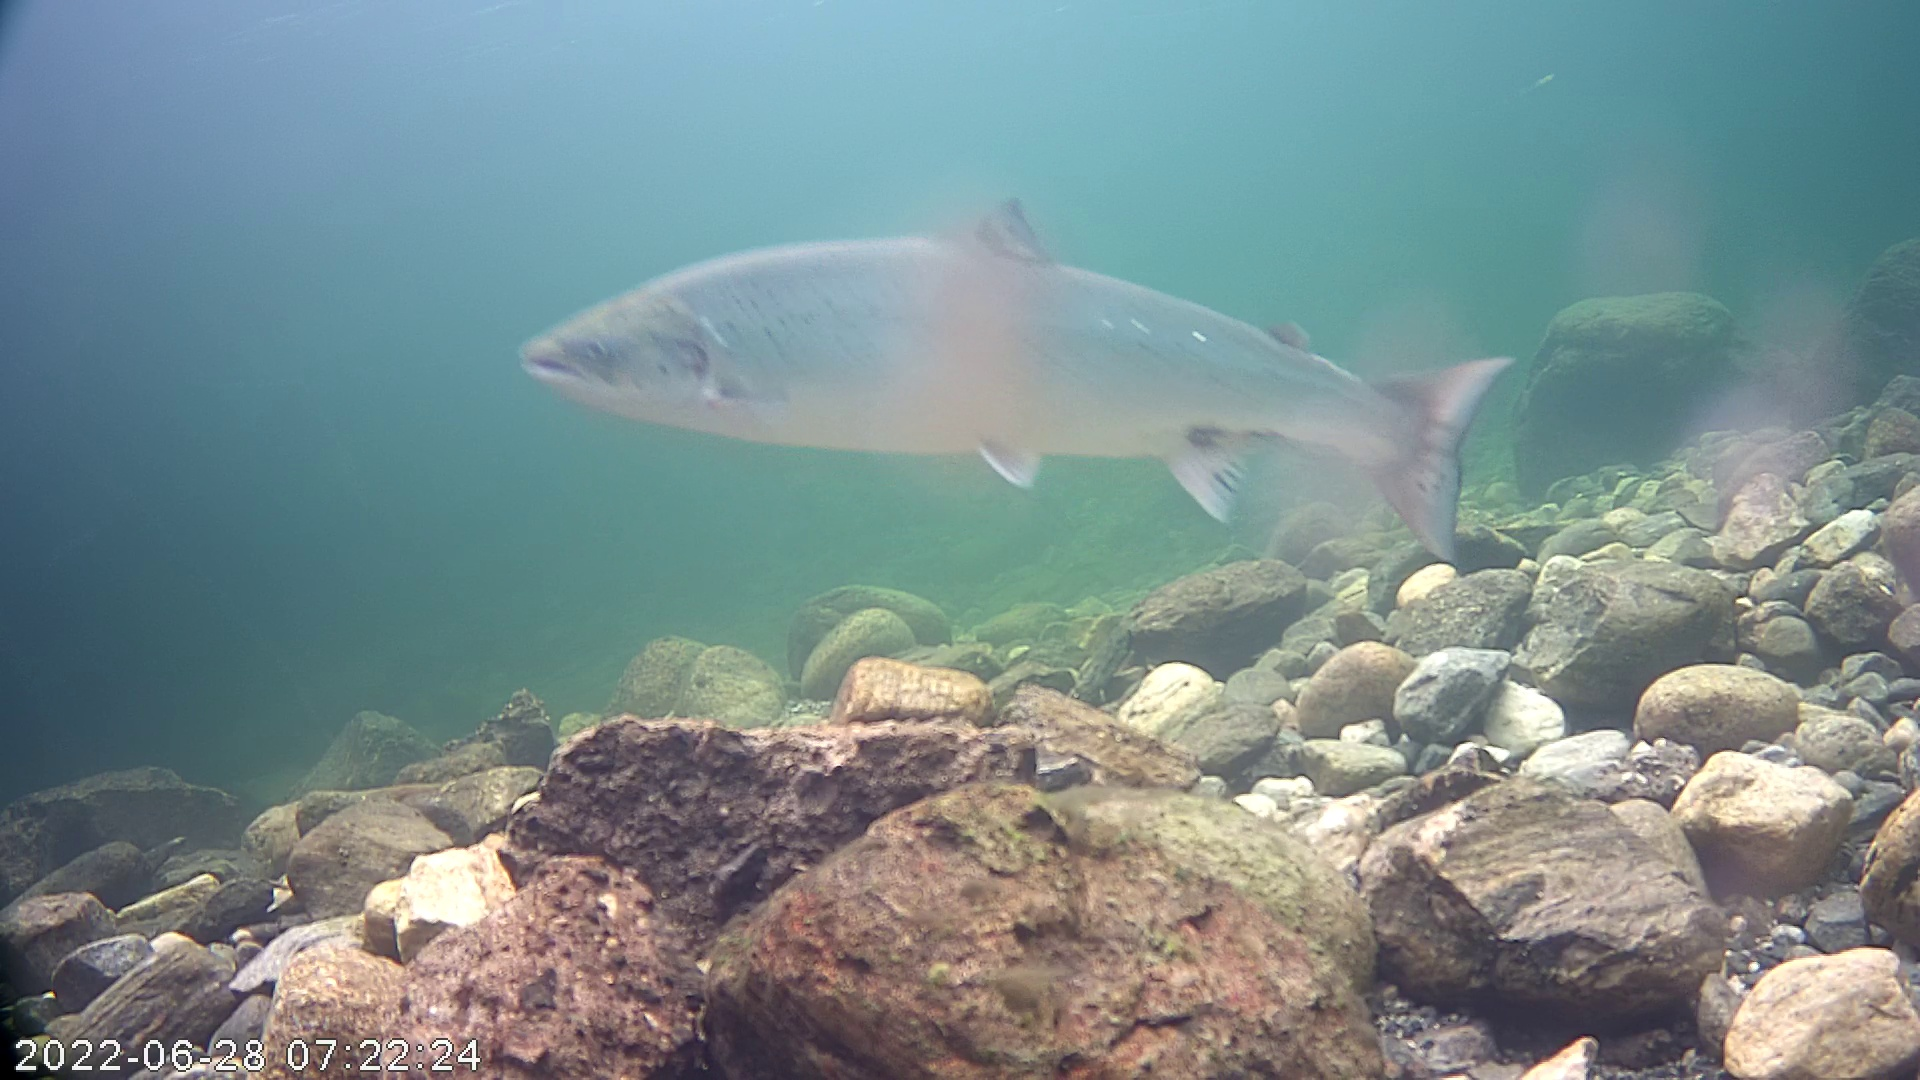salmon: (506, 116, 1534, 582)
